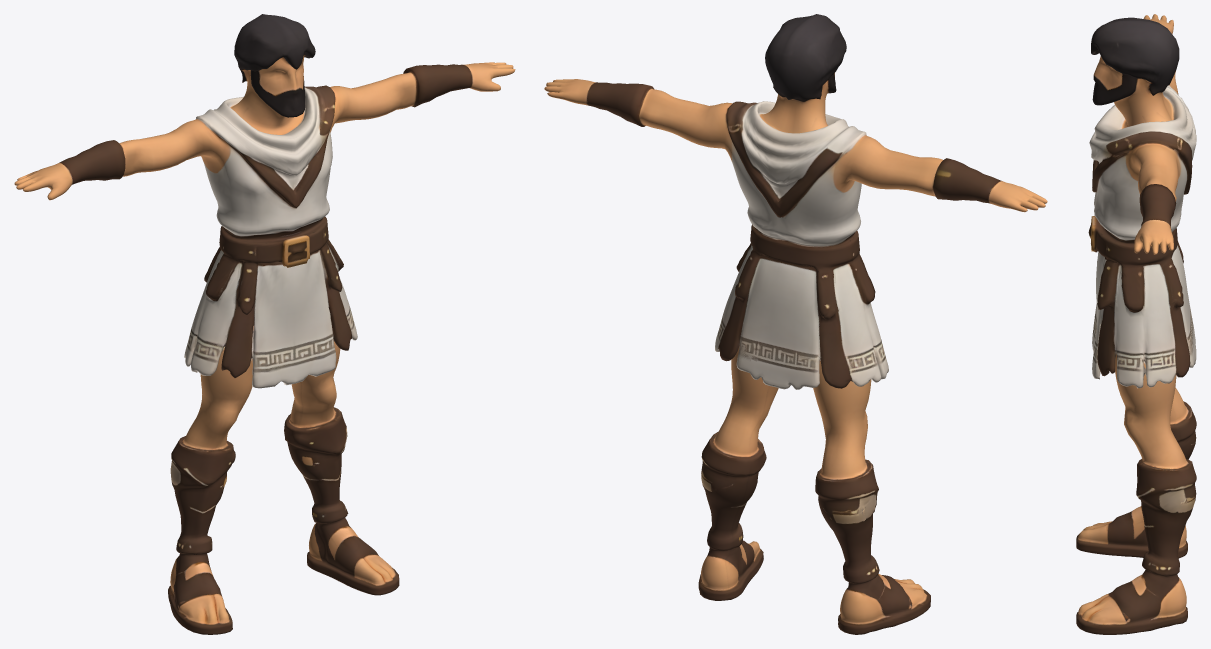
The model's file is hero.fbx.
The picture shows the model from 3 angles, left to right: view 1: azimuth 30°, elevation 25°; view 2: azimuth 150°, elevation 25°; view 3: azimuth 270°, elevation 25°; orthographic projection. The views are drawn at different scales.
Parts seen in each view (by area): view 1: model; view 2: model; view 3: model.
Part boxes in pixels (x1,y1,x2,y2): model: (14,14,515,634); model: (544,14,1047,634); model: (1076,14,1196,634).
Bounding box in the file's own units: 159 × 175 × 33.92.
1 material, 1 textured.
